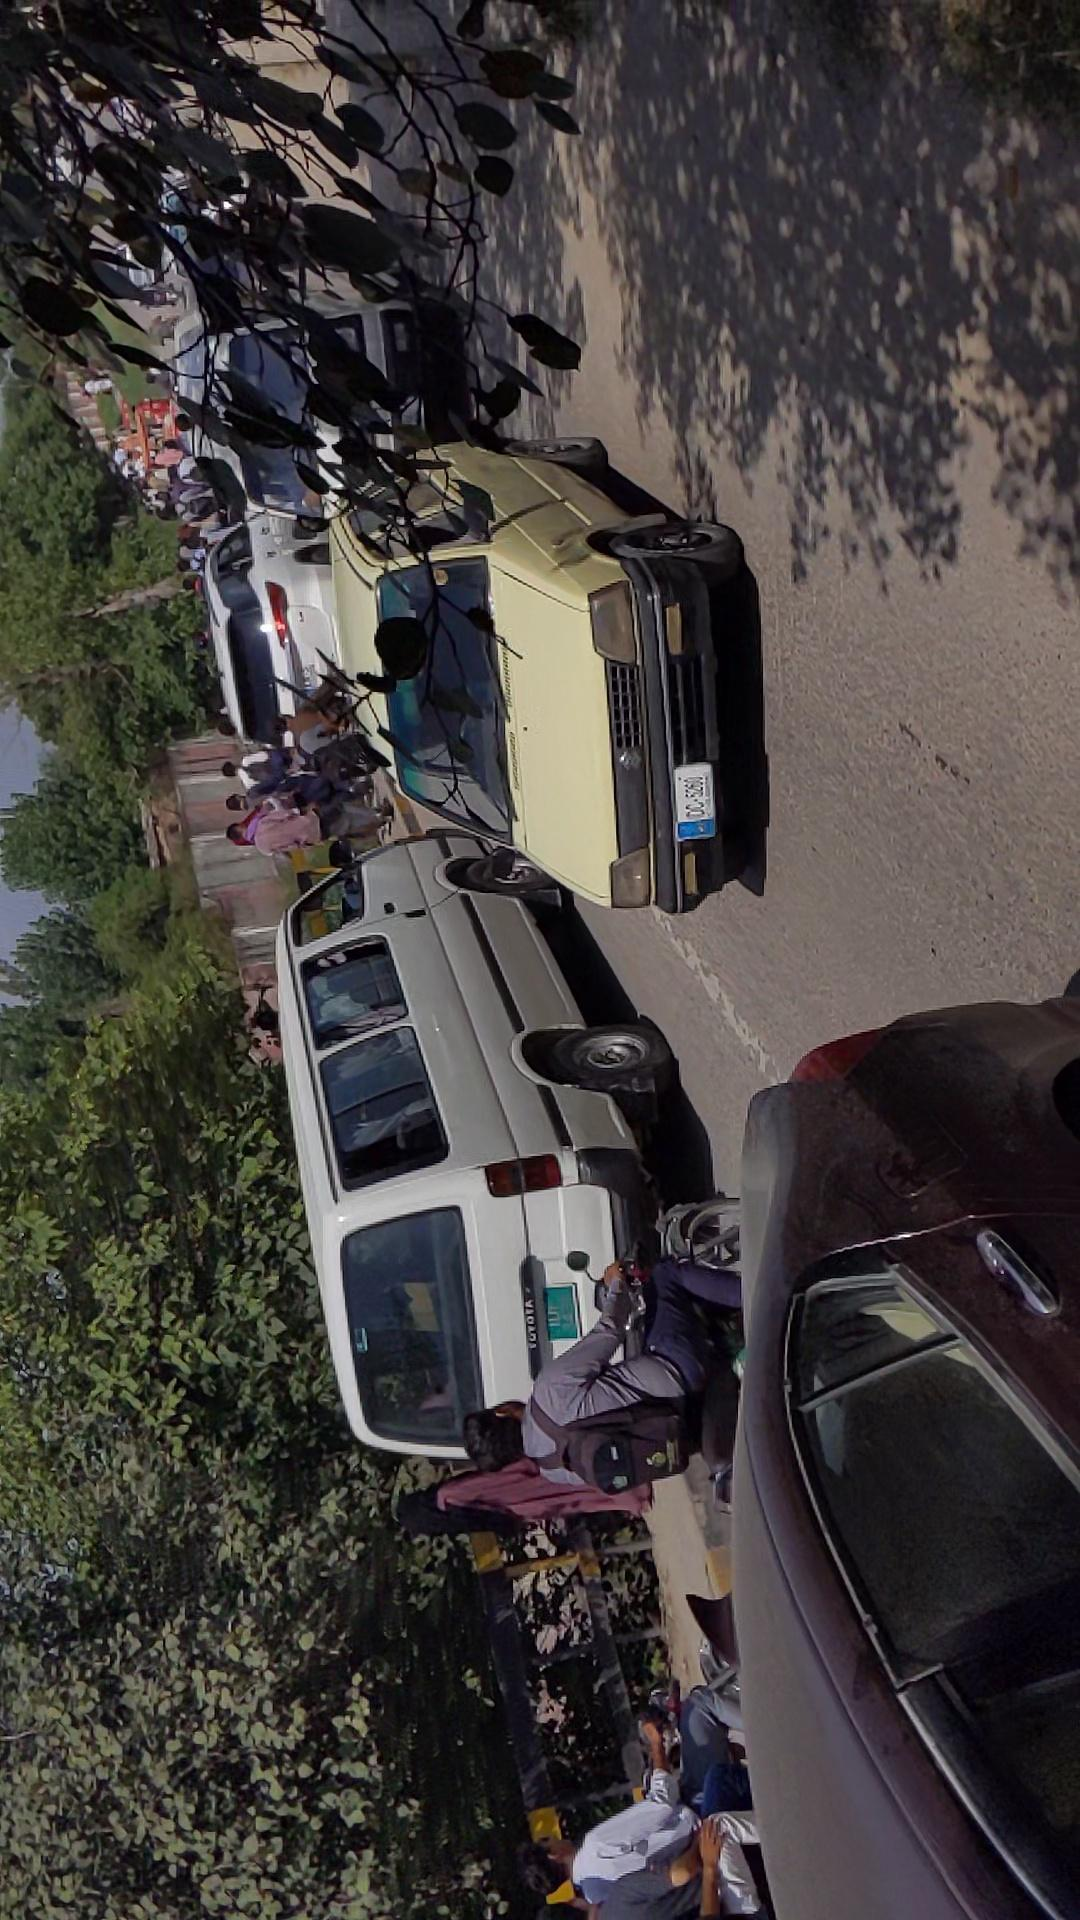windshield: (607, 682, 765, 913)
